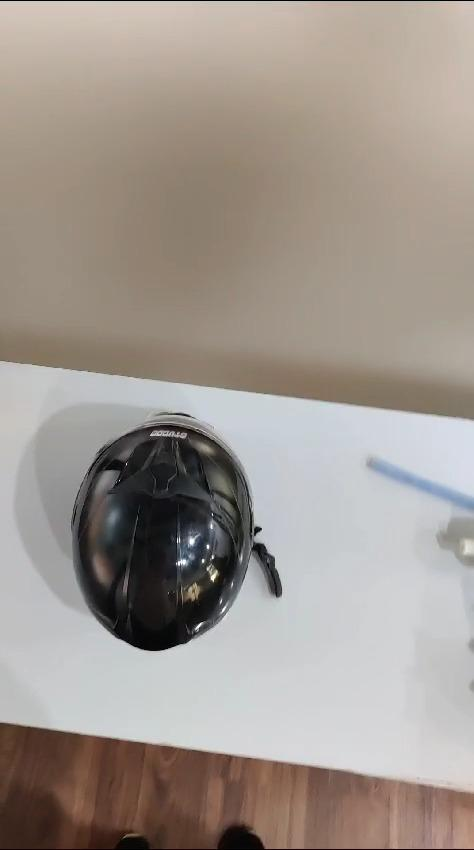Helmet: (54, 410, 252, 663)
